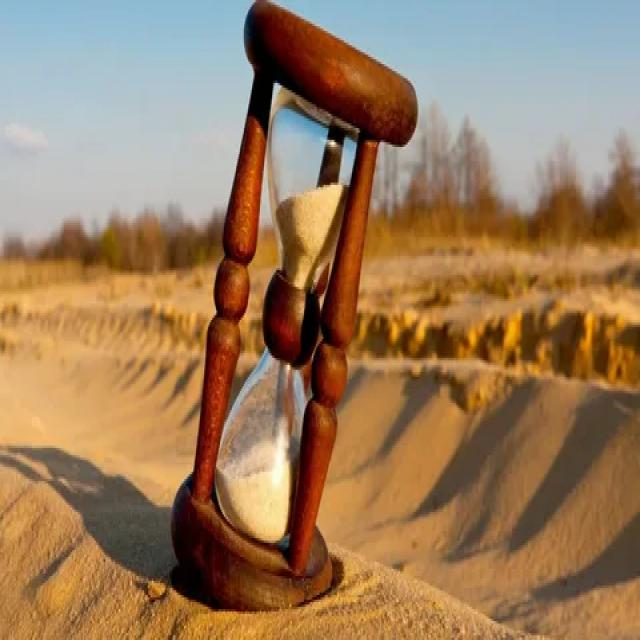clock: (169, 0, 422, 611)
